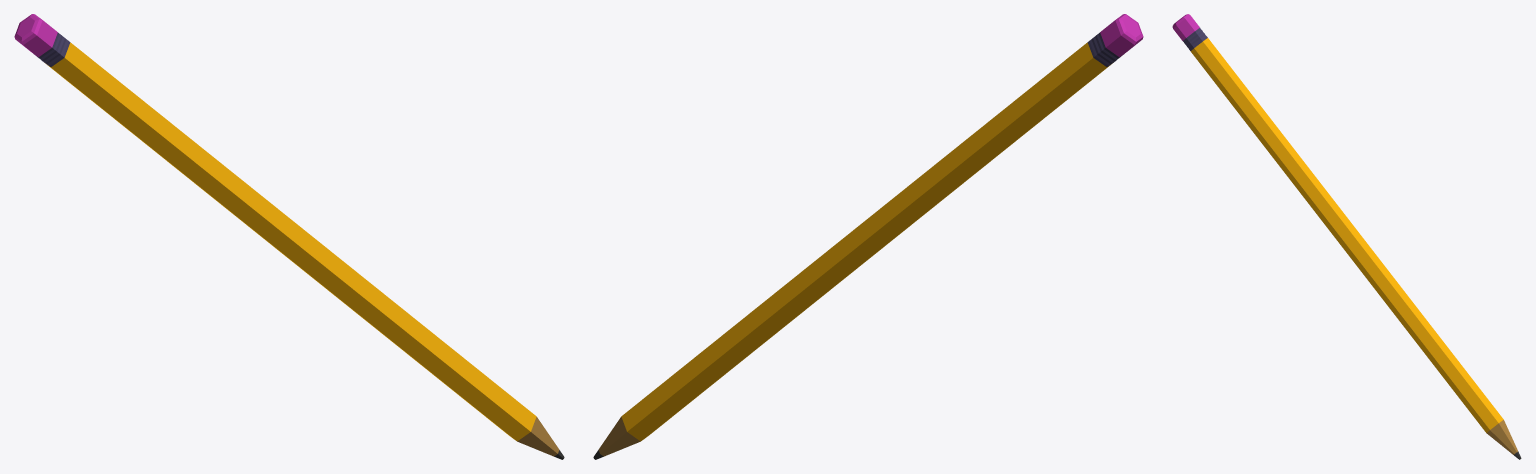
The model's file is pencil.glb.
3 renders of one model, left to right at view 1: azimuth 30°, elevation 25°; view 2: azimuth 150°, elevation 25°; view 3: azimuth 330°, elevation 25°, orthographic. The views are drawn at different scales.
Parts seen in each view (by area): view 1: pencil; view 2: pencil; view 3: pencil.
Boxes of the visible parts, x1,y1,x2,y2 form: pencil: [14, 14, 564, 459]; pencil: [593, 14, 1143, 459]; pencil: [1172, 14, 1521, 459].
Bounding box in the file's own units: 0.1385 × 0.1385 × 0.007.
